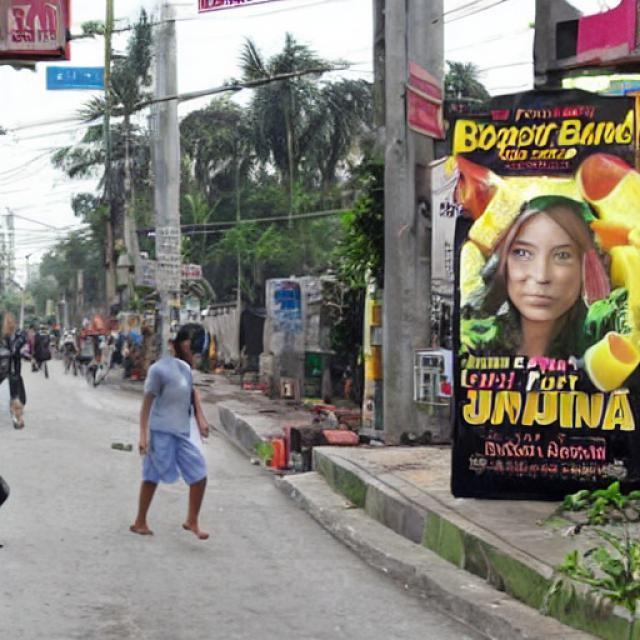Billboard: (452, 100, 640, 506)
